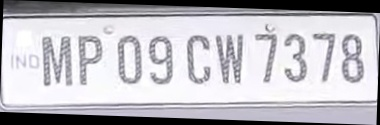character: (40, 33, 74, 87), (213, 31, 245, 85), (76, 33, 103, 87), (338, 31, 365, 84), (185, 33, 212, 85), (253, 31, 279, 84), (310, 30, 336, 83), (116, 34, 143, 85), (147, 34, 174, 85), (282, 32, 308, 83)
